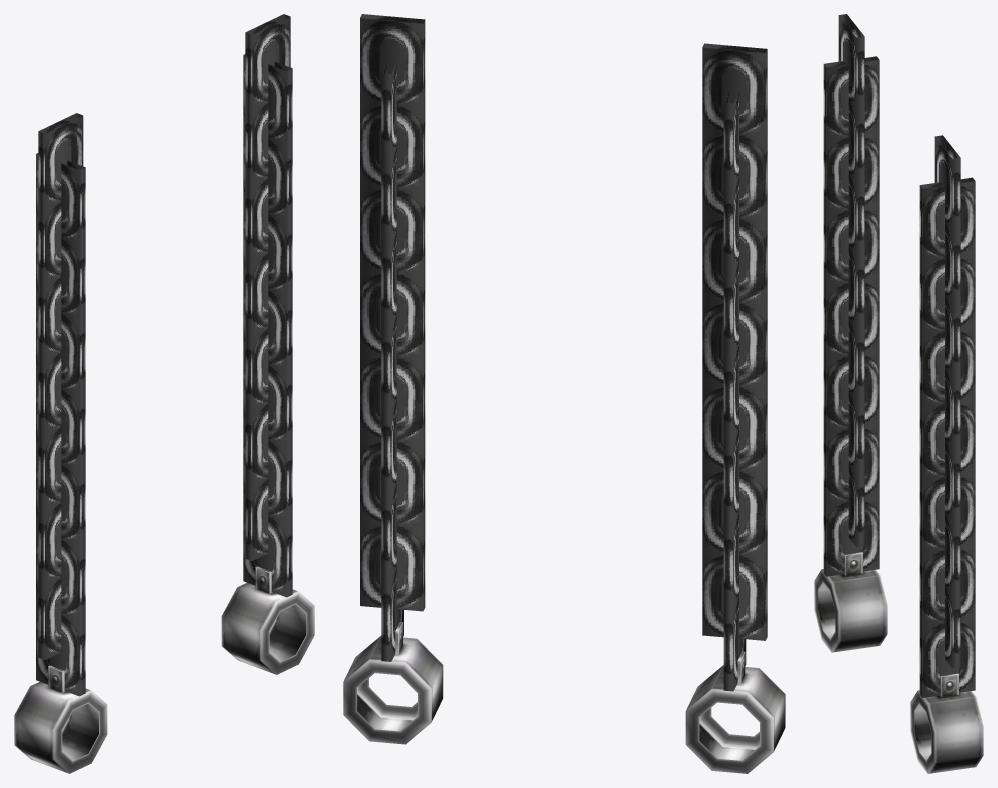
File: SWORDLIGHT20_INST_CHAINCUFFS_LOD1_09.fbx
3 renders of one model, left to right at view 1: azimuth 30°, elevation 25°; view 2: azimuth 150°, elevation 25°; view 3: azimuth 270°, elevation 25°, orthographic. The views are drawn at different scales.
Parts seen in each view (by area): view 1: SWORDLIGHT20_INST_CHAINCUFFS_LOD1_09; view 2: SWORDLIGHT20_INST_CHAINCUFFS_LOD1_09; view 3: SWORDLIGHT20_INST_CHAINCUFFS_LOD1_09.
Part boxes in pixels (bbox=[...]): SWORDLIGHT20_INST_CHAINCUFFS_LOD1_09: bbox=[14, 14, 314, 773]; SWORDLIGHT20_INST_CHAINCUFFS_LOD1_09: bbox=[343, 14, 785, 773]; SWORDLIGHT20_INST_CHAINCUFFS_LOD1_09: bbox=[814, 14, 983, 773].
Bounding box in the file's own units: 6710 × 12114 × 3013.
Materials: 2 (2 with a texture image).
